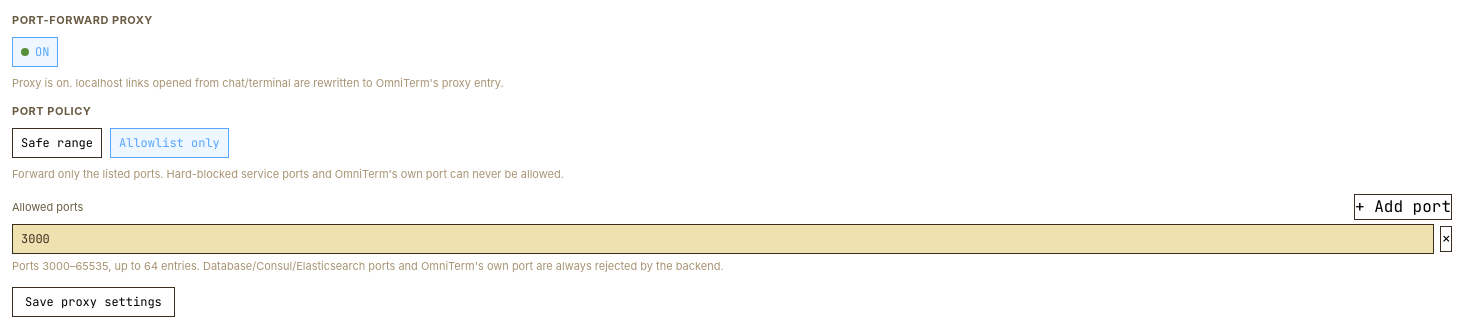
it: ProxySection（代理安全设置） › maps a backend 400 to the inline invalid-port message
This screenshot has width=1464, height=334.
Click the button "ON".
click(35, 52)  # box [12, 36, 58, 66]
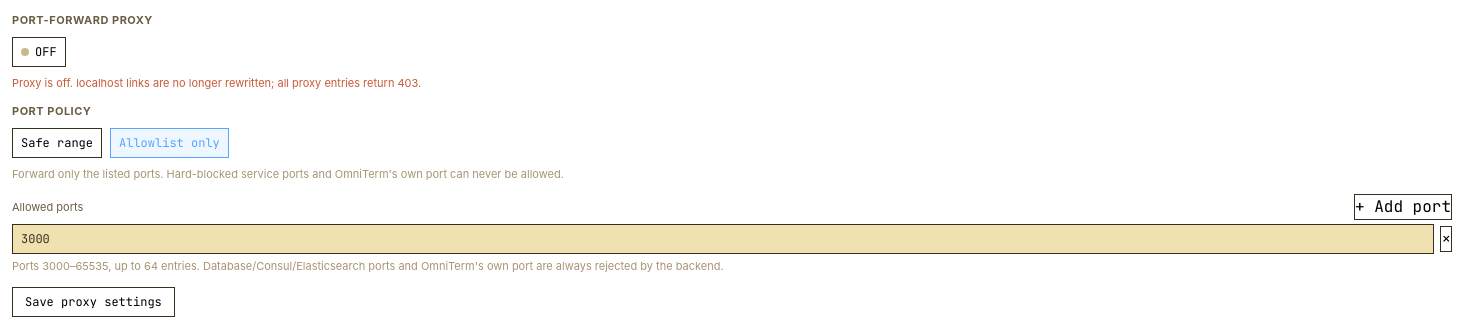
Click the button "Save proxy settings".
click(93, 302)  # box [12, 286, 175, 316]
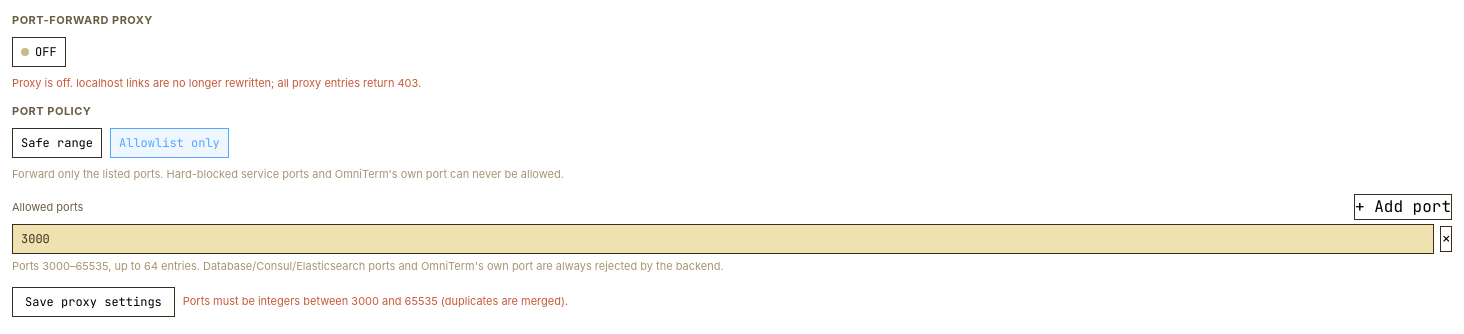
Result: the text "Ports must be integers between 3000 and 65535" is shown at [183, 294, 568, 308]
